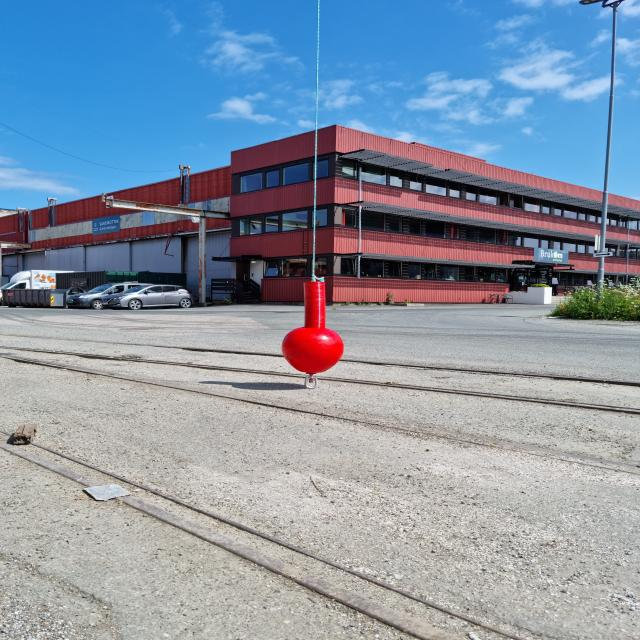red: (282, 283, 344, 373)
